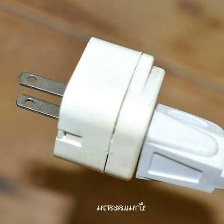three_eye_plug: (10, 27, 171, 185)
